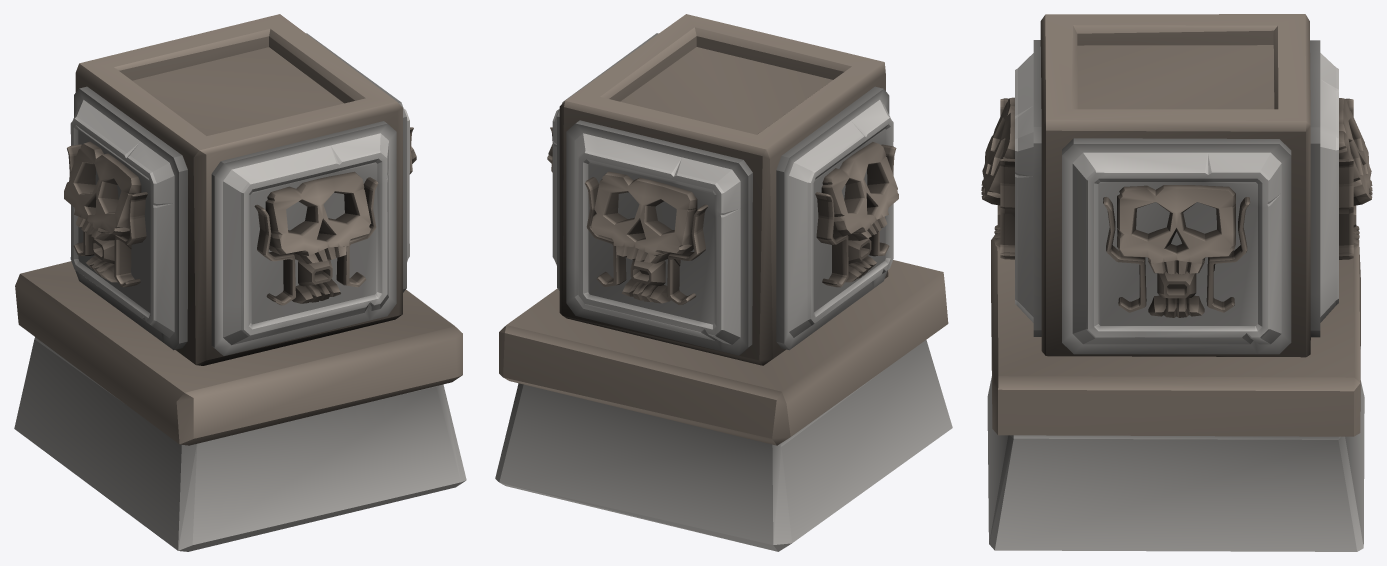
File: obj_trap_dart.FBX
3 views of the same model, side by side, from view 1: azimuth 30°, elevation 25°; view 2: azimuth 150°, elevation 25°; view 3: azimuth 270°, elevation 25° (orthographic). The views are drawn at different scales.
Parts seen in each view (by area): view 1: obj_trap_dart; view 2: obj_trap_dart; view 3: obj_trap_dart.
Boxes of the visible parts, box(x1,y1,x2,y2) form: obj_trap_dart: box(14, 14, 466, 551); obj_trap_dart: box(495, 14, 952, 551); obj_trap_dart: box(981, 14, 1372, 551).
Size of the model in its own units: 1.5 by 1.74 by 1.5.
